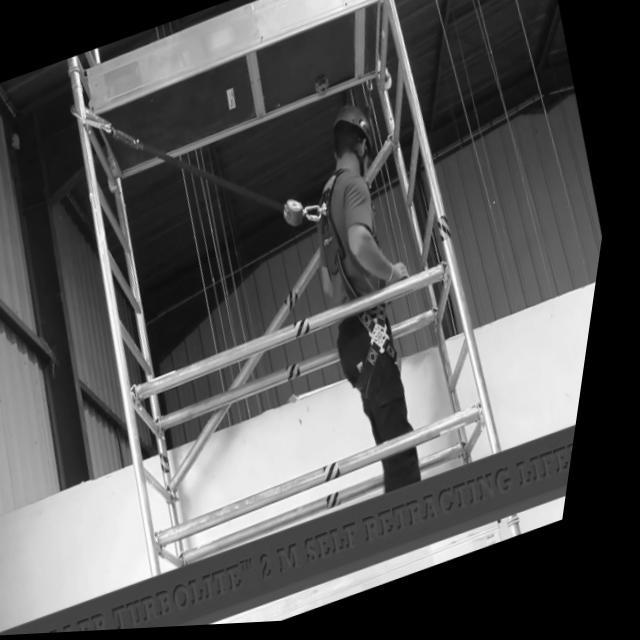belt: (278, 150, 456, 432)
